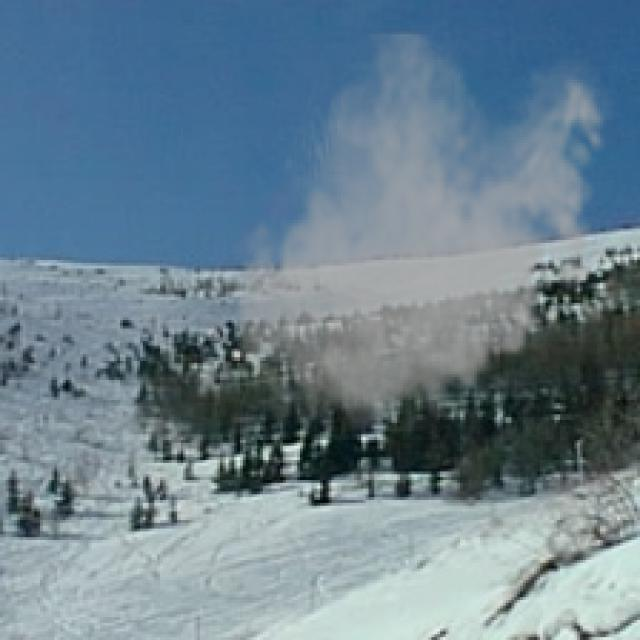Smoke: (225, 28, 618, 446)
